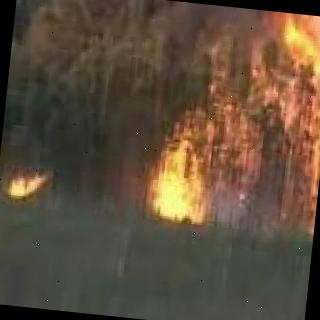fire: (260, 12, 320, 239), (140, 114, 222, 232), (2, 164, 50, 204)
